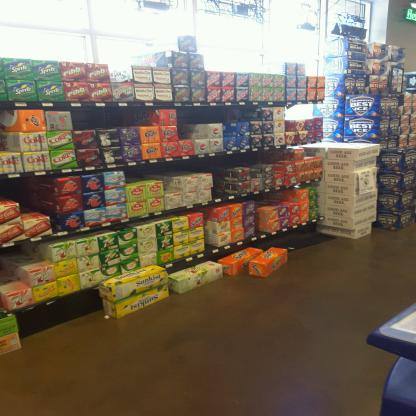Void: (17, 180, 50, 218), (73, 111, 148, 124), (183, 108, 253, 118), (212, 159, 226, 193), (128, 167, 201, 173), (239, 154, 279, 162), (269, 192, 293, 202)
